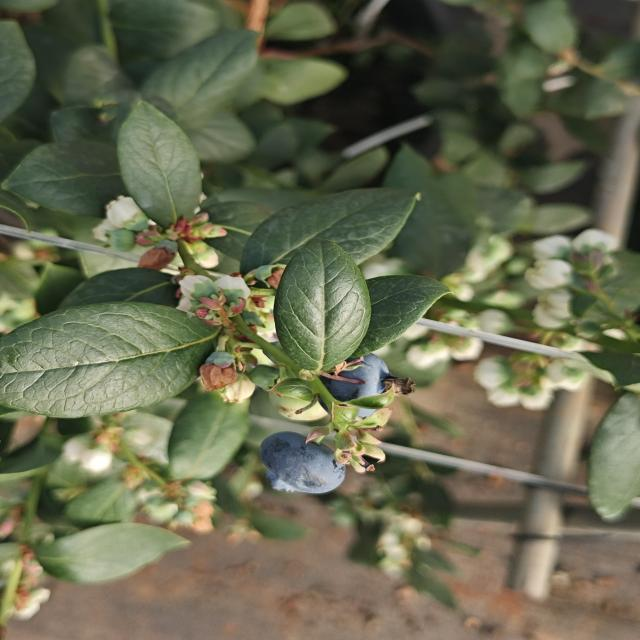ripe: (256, 429, 350, 498), (317, 352, 395, 419)
